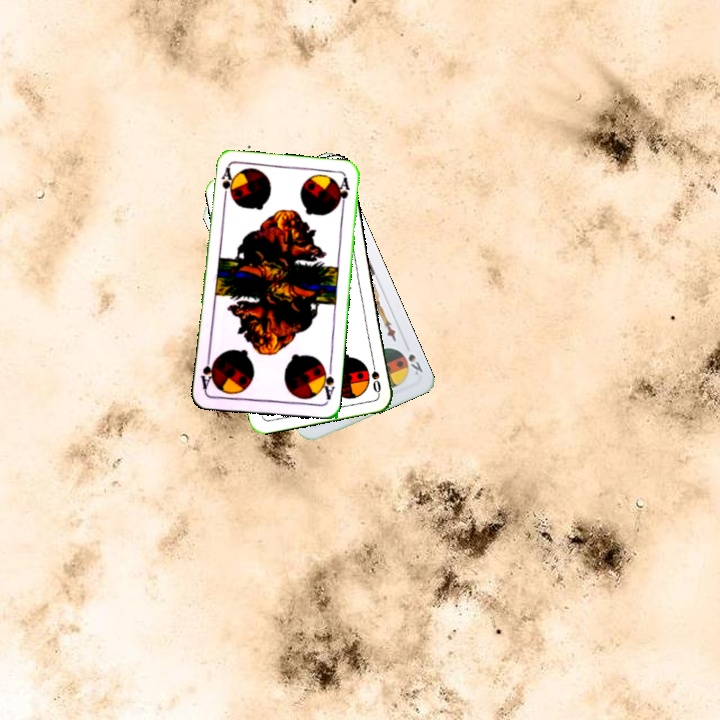SA: (317, 362, 337, 402), (218, 164, 234, 205)
SK: (404, 350, 425, 378)
SO: (367, 355, 383, 396)
